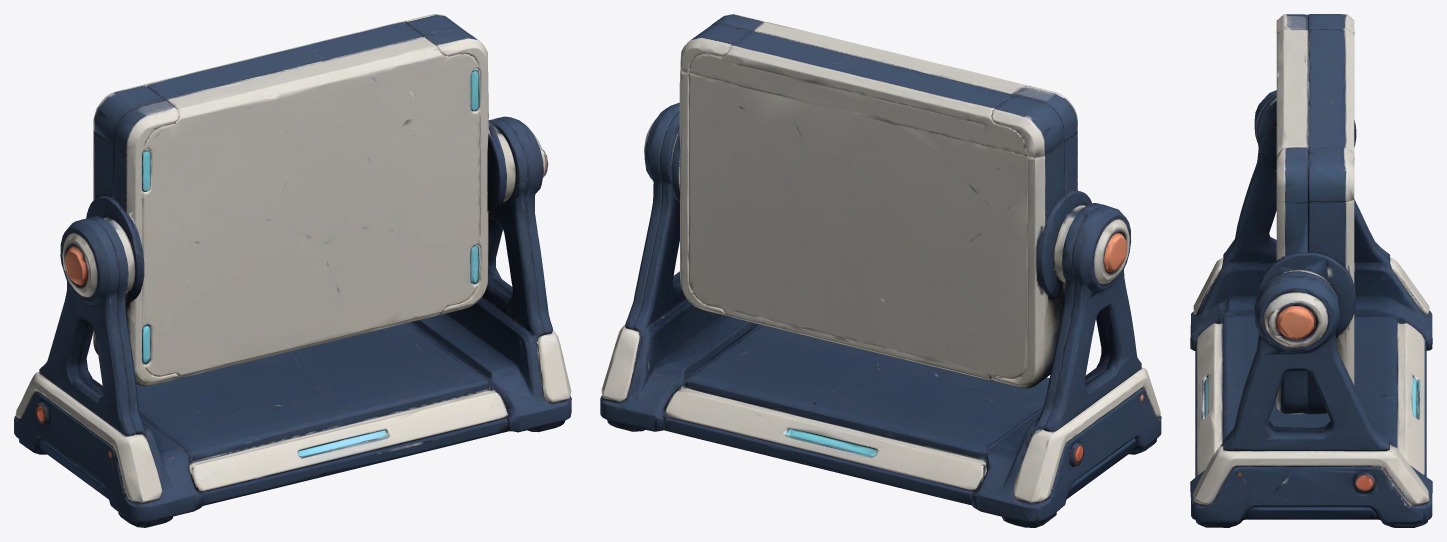
The model's file is model-28-rotating-panel.glb.
3 renders of one model, left to right at view 1: azimuth 30°, elevation 25°; view 2: azimuth 150°, elevation 25°; view 3: azimuth 270°, elevation 25°, orthographic. The views are drawn at different scales.
Parts seen in each view (by area): view 1: node_0; view 2: node_0; view 3: node_0.
Boxes of the visible parts, left/top/right/bottom form: node_0: left=14, top=14, right=571, bottom=527; node_0: left=600, top=14, right=1161, bottom=527; node_0: left=1190, top=14, right=1432, bottom=527.
Size of the model in its own units: 0.9345 by 0.7133 by 0.4556.
1 material, 1 textured.
